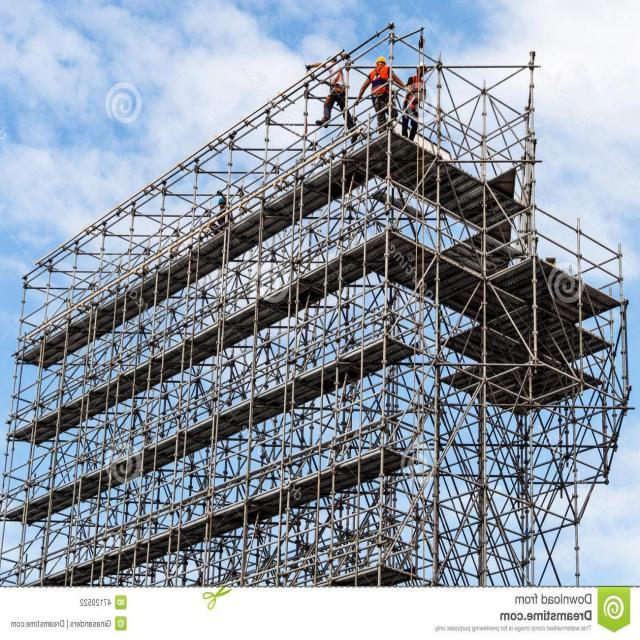Reflective-Jacket: (370, 66, 390, 96), (407, 96, 419, 110)
Safety-Helmet: (376, 54, 388, 66), (398, 90, 406, 98)
